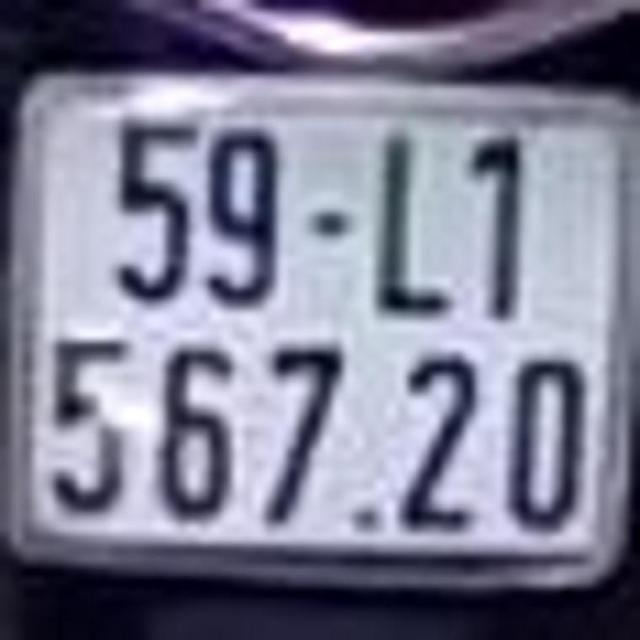1: (463, 116, 533, 322)
2: (396, 332, 480, 532), (510, 330, 590, 537)
5: (108, 105, 200, 298), (43, 324, 133, 514)
6: (160, 320, 241, 522)
7: (264, 314, 346, 527)
9: (209, 101, 288, 302)
L: (371, 120, 453, 316)
